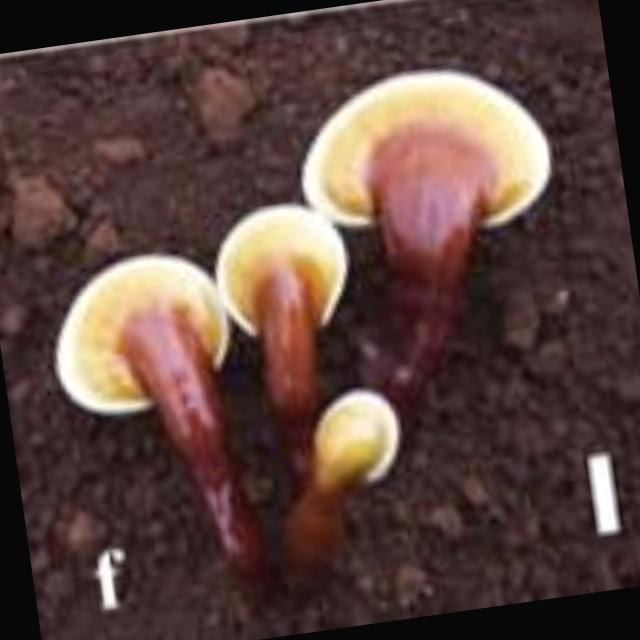ganoderma: (287, 53, 563, 259), (38, 243, 242, 427), (207, 193, 362, 348), (305, 384, 416, 495)
